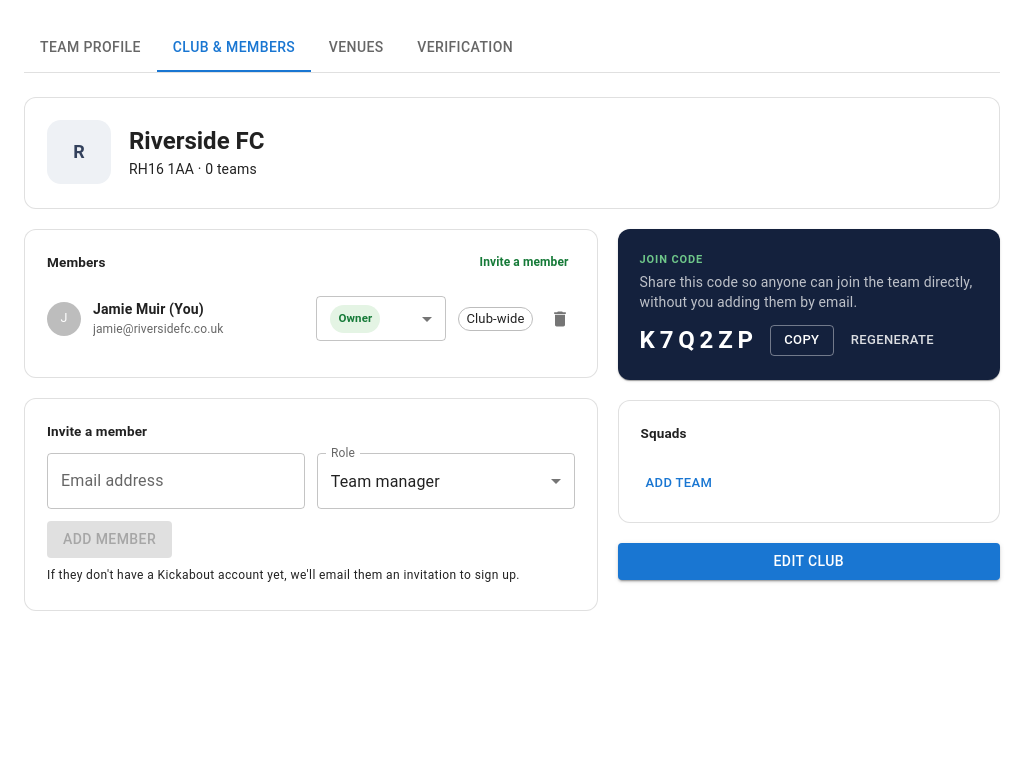
Test: ClubProfilePage members › shows the API's message when it refuses a role change
Step 1. Click the dropdown named "Role for Jamie Muir" → [355, 319], box [330,305,380,333]
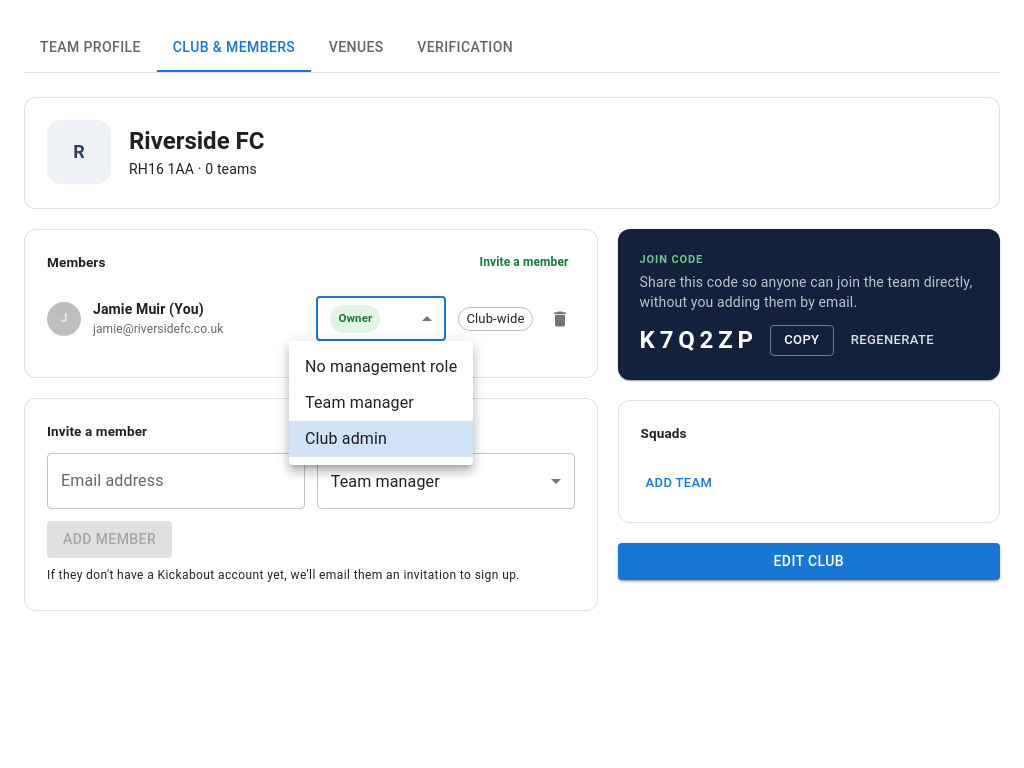
Step 2. Click the option "Team manager" → [359, 402], box [305,393,414,412]
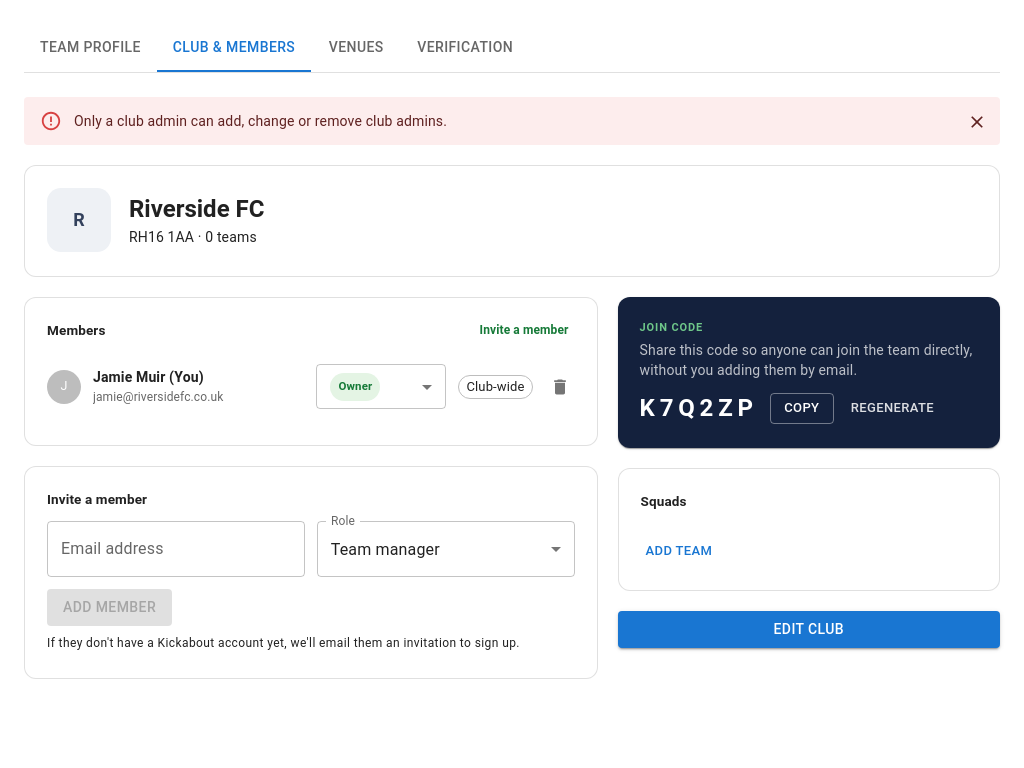
expect the text "Only a club admin can add, change or remove club admins." is shown: met, box [74,113,447,129]
